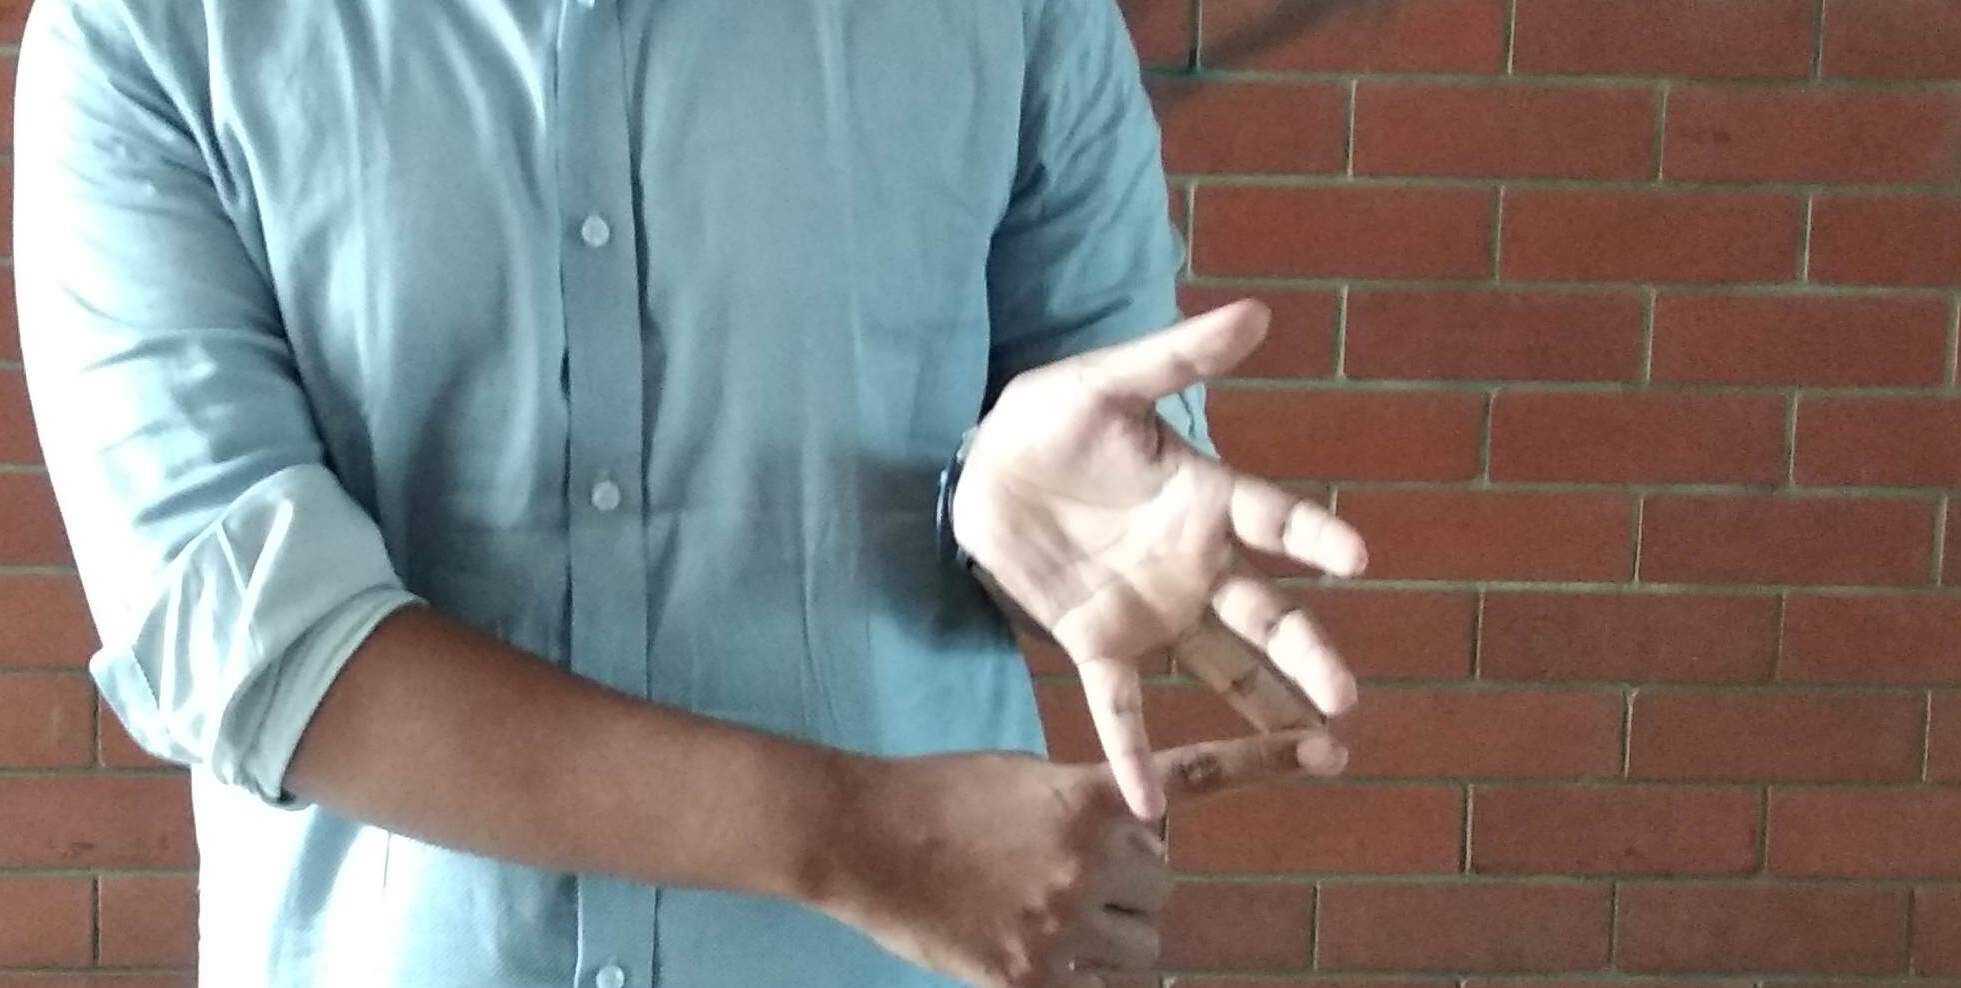e: (872, 434, 1372, 988)
